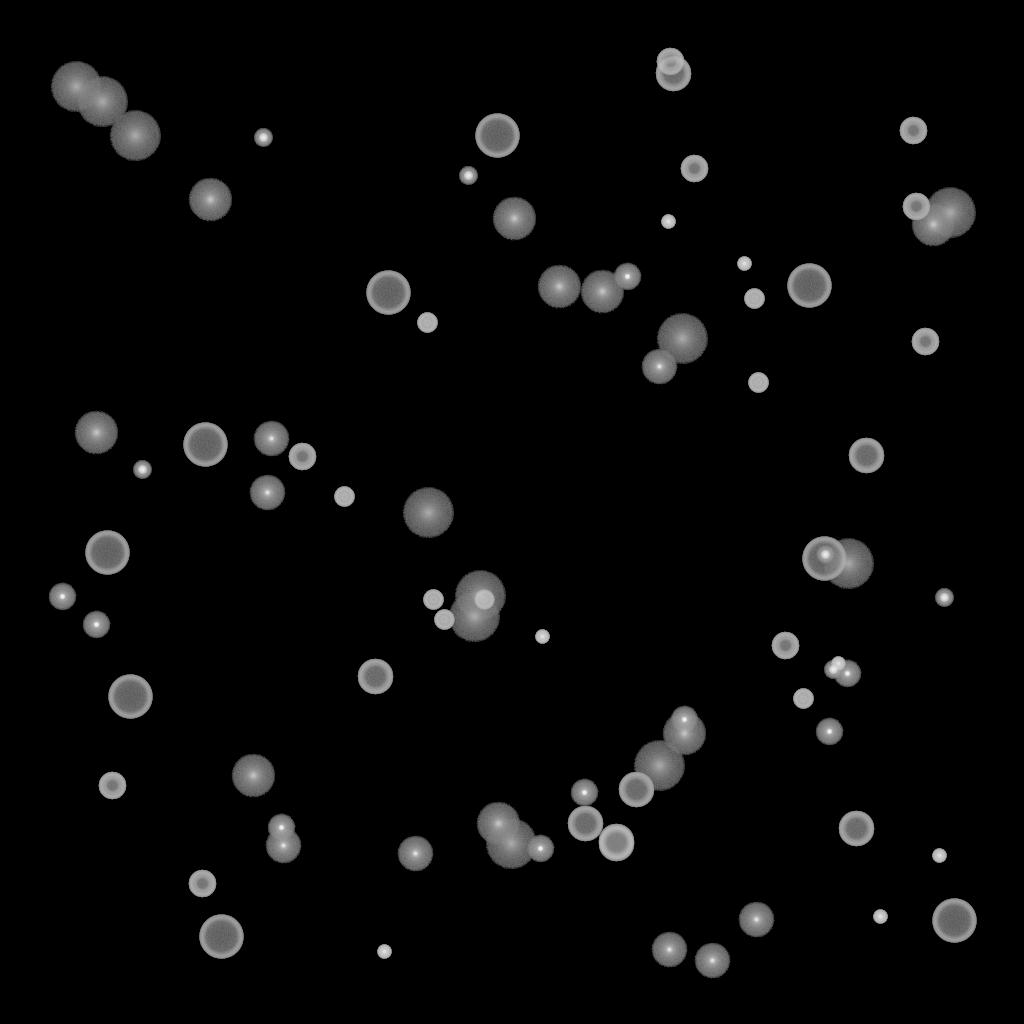depth:-10: (48, 583, 76, 611), (815, 718, 843, 746), (267, 814, 295, 842), (670, 706, 698, 734), (570, 779, 598, 807), (82, 611, 110, 639), (613, 263, 641, 291), (526, 835, 554, 863), (833, 660, 861, 688)
depth:-20: (935, 589, 953, 607), (824, 661, 842, 679), (133, 461, 151, 479), (459, 167, 477, 185), (816, 546, 834, 564), (254, 129, 272, 147)
depth:-30: (737, 257, 751, 271), (661, 215, 675, 229), (873, 910, 887, 924), (535, 630, 549, 644), (831, 657, 845, 671), (377, 945, 391, 959), (932, 849, 946, 863)
depth:-40: (334, 487, 354, 507), (474, 590, 494, 610), (423, 590, 443, 610), (748, 373, 768, 393), (793, 689, 813, 709), (434, 610, 454, 630), (417, 313, 437, 333), (744, 289, 764, 309)
depth:-50: (902, 193, 930, 221), (288, 443, 316, 471), (911, 328, 939, 356), (656, 48, 684, 76), (188, 870, 216, 898), (680, 155, 708, 183), (899, 117, 927, 145), (771, 632, 799, 660), (98, 772, 126, 800)
depth:-60: (598, 824, 634, 860), (357, 659, 393, 695), (598, 826, 634, 862), (848, 438, 884, 474), (655, 56, 691, 92), (838, 811, 874, 847), (567, 806, 603, 842), (618, 772, 654, 808)
depth:-70: (787, 264, 831, 308), (475, 114, 519, 158), (183, 423, 227, 467), (85, 531, 129, 575), (199, 915, 243, 959), (108, 675, 152, 719), (802, 537, 846, 581), (932, 899, 976, 943), (366, 271, 410, 315)
depth:0: (738, 902, 774, 938), (265, 828, 301, 864), (651, 932, 687, 968), (397, 836, 433, 872), (253, 421, 289, 457), (694, 943, 730, 979), (641, 349, 677, 385), (249, 475, 285, 511)
depth:10: (492, 197, 536, 241), (188, 178, 232, 222), (537, 265, 581, 309), (476, 802, 520, 846), (231, 754, 275, 798), (662, 712, 706, 756), (74, 411, 118, 455), (580, 270, 624, 314), (911, 203, 955, 247)
depth:20: (50, 62, 102, 112), (924, 188, 976, 238), (402, 488, 454, 538), (454, 571, 506, 621), (109, 111, 161, 161), (633, 741, 685, 791), (448, 592, 500, 642), (656, 314, 708, 364), (76, 77, 128, 127), (485, 819, 537, 869), (822, 539, 874, 589)
